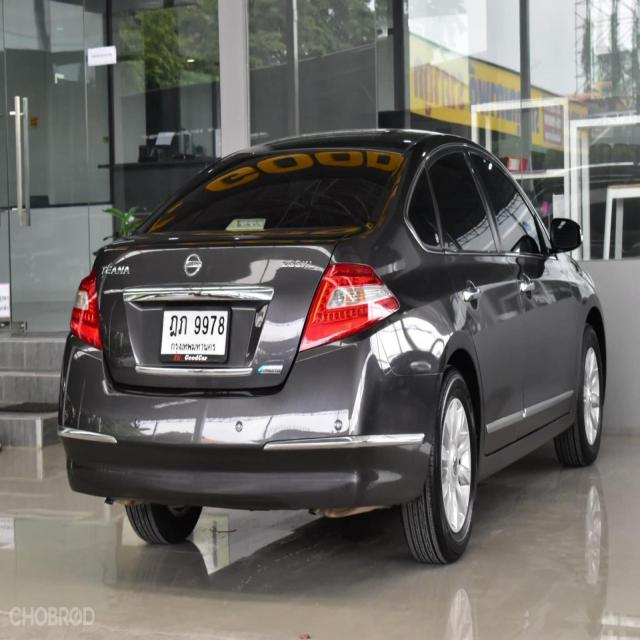license_plate: (155, 301, 232, 374)
